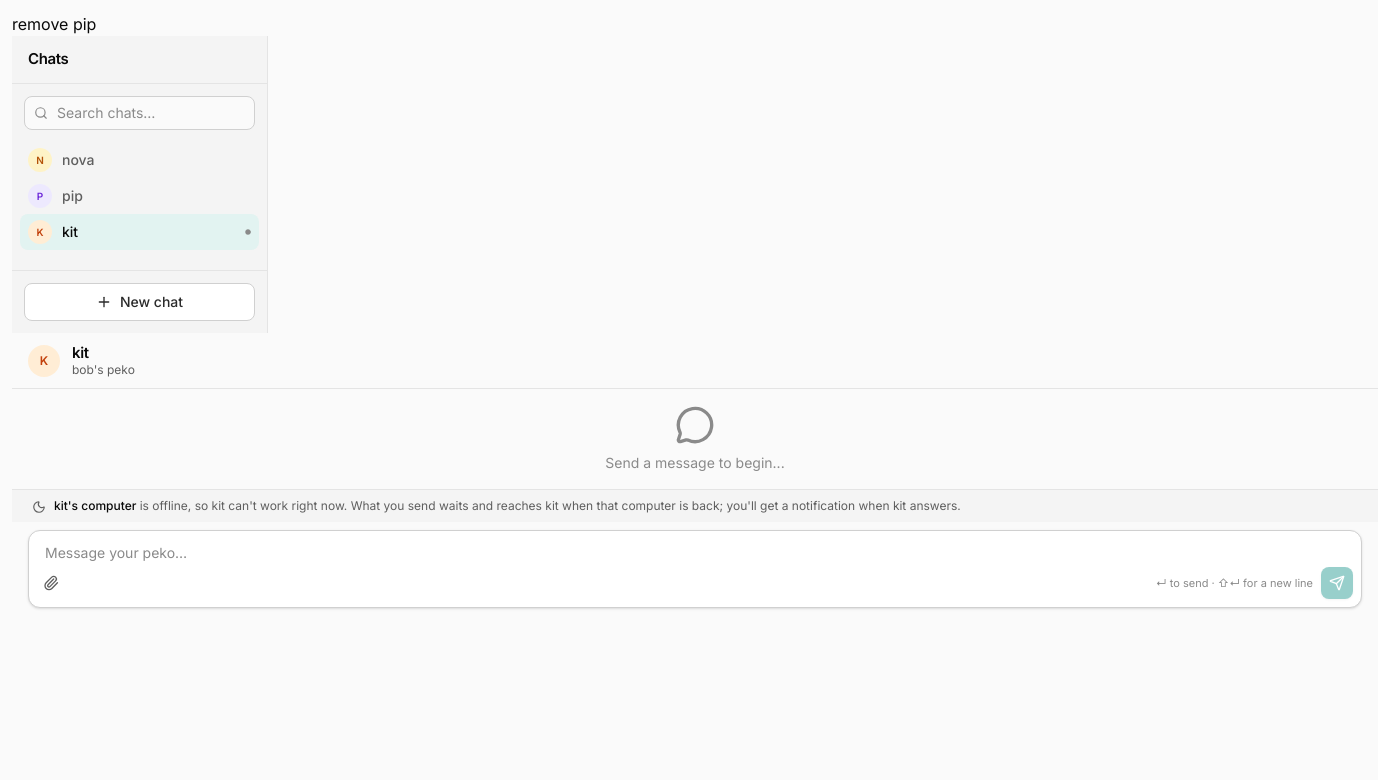
Test case: moving between chats › goes from a peko on another computer to one of this computer's in one click
The image size is (1378, 780).
Expected: the heading "kit" is shown, [72,343,89,362]
What coordinates should you click on to do the following:
click the button "N nova"
I would click on:
 (140, 160)
Its box is [20,142,259,178].
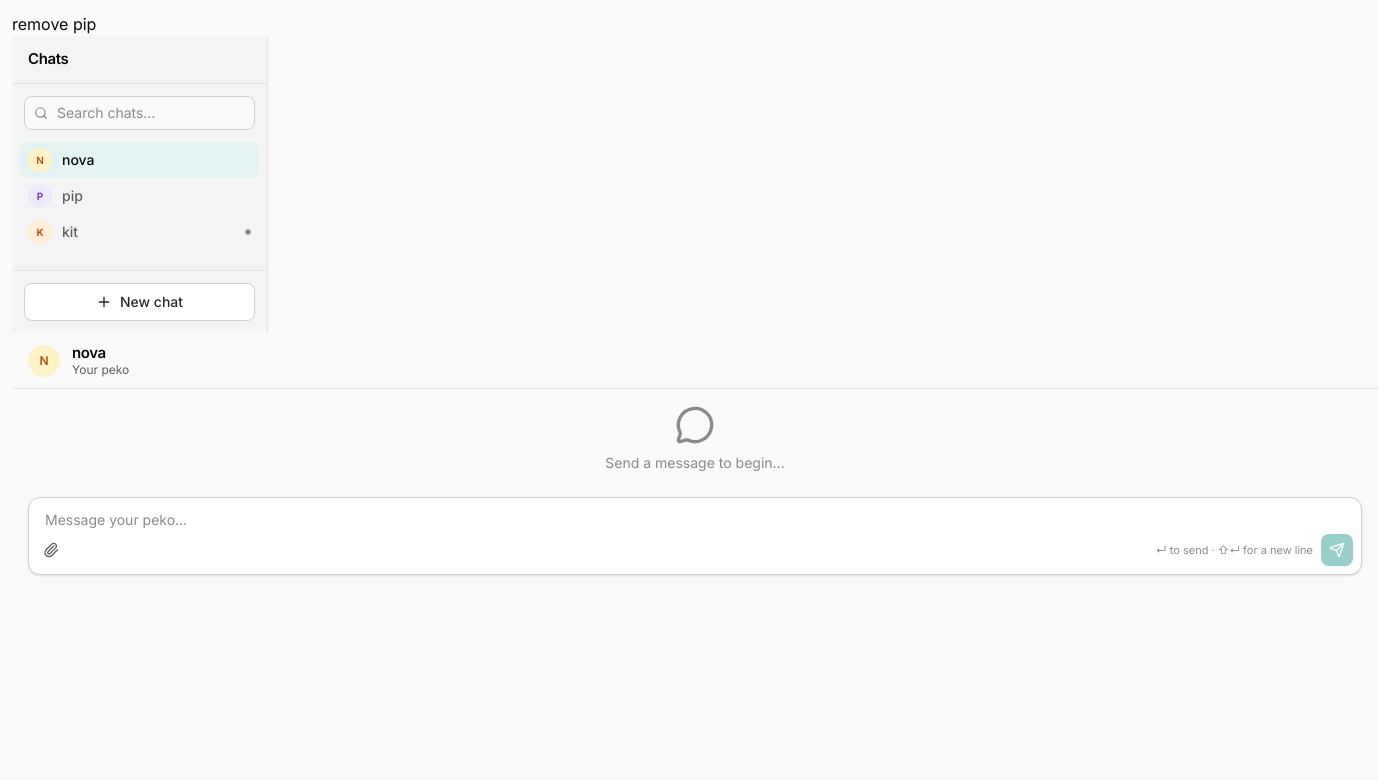
Expected: the heading "nova" is shown, [72,343,106,362]
